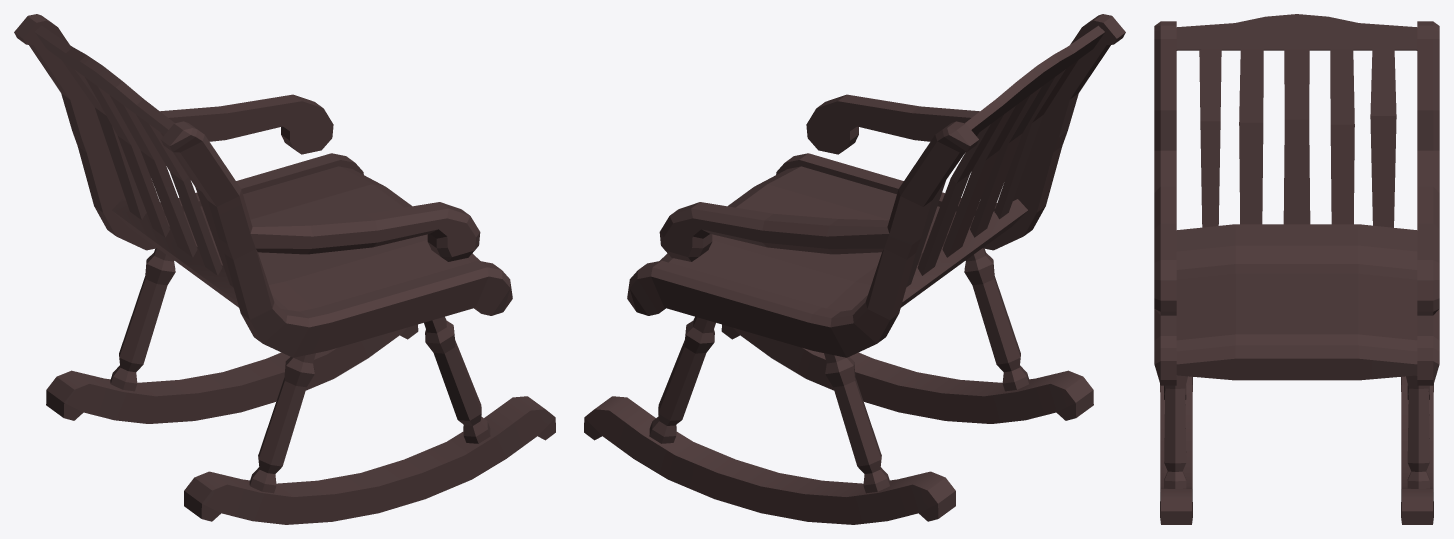
Rendered from prop_9.FBX.
3 views of the same model, side by side, from view 1: azimuth 30°, elevation 25°; view 2: azimuth 150°, elevation 25°; view 3: azimuth 270°, elevation 25° (orthographic). The views are drawn at different scales.
Parts seen in each view (by area): view 1: prop_9; view 2: prop_9; view 3: prop_9.
Boxes of the visible parts, box(x1,y1,x2,y2) form: prop_9: box(14, 14, 555, 524); prop_9: box(584, 14, 1125, 524); prop_9: box(1154, 14, 1439, 524).
Size of the model in its own units: 77.34 by 83.82 by 56.49.
